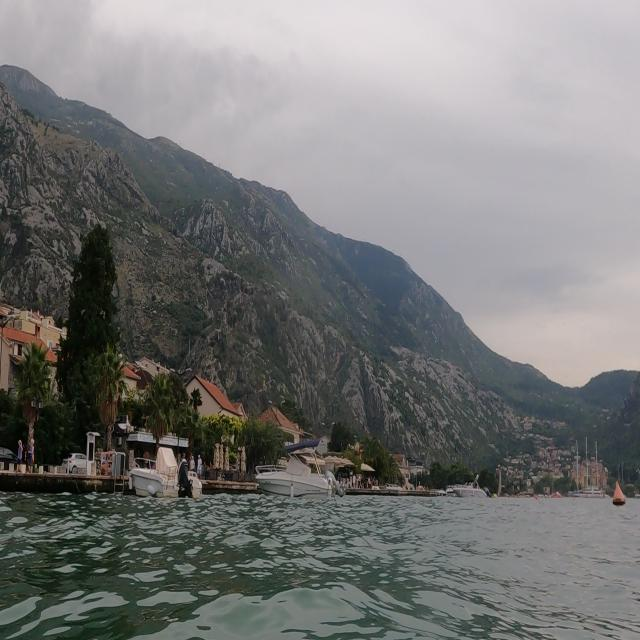boat: (127, 426, 212, 514), (253, 435, 342, 502), (569, 434, 609, 506), (442, 470, 494, 506)
buoy: (609, 474, 630, 506)
